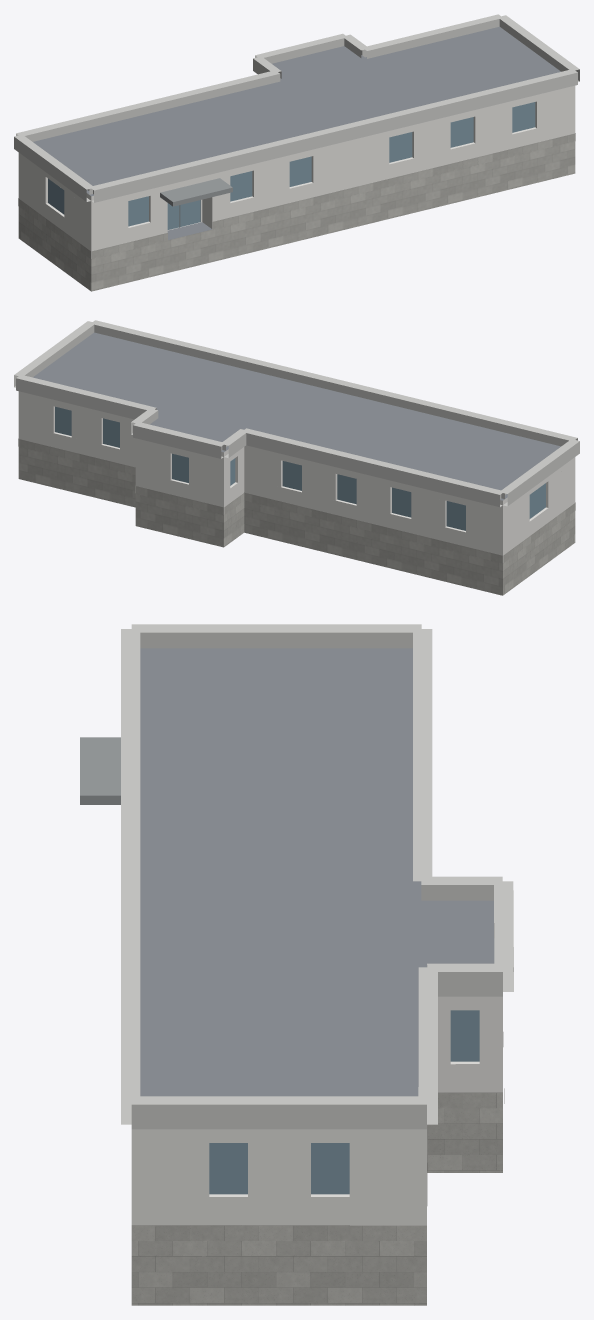
3 views of the same model, one above another, from view 1: azimuth 30°, elevation 25°; view 2: azimuth 150°, elevation 25°; view 3: azimuth 270°, elevation 25° (orthographic). The views are drawn at different scales.
Parts seen in each view (by area): view 1: westPlantW12__roof, westPlantW12__base, westPlantW12__wall, westPlantW12__trim, westPlantW12__glass, westPlantW12__canopy; view 2: westPlantW12__roof, westPlantW12__wall, westPlantW12__base, westPlantW12__trim, westPlantW12__glass; view 3: westPlantW12__roof, westPlantW12__trim, westPlantW12__base, westPlantW12__wall, westPlantW12__glass, westPlantW12__canopy.
Boxes of the visible parts, x1=… form: westPlantW12__roof: x1=33, y1=26, x2=560, y2=240; westPlantW12__base: x1=18, y1=133, x2=575, y2=291; westPlantW12__wall: x1=18, y1=85, x2=575, y2=258; westPlantW12__trim: x1=14, y1=14, x2=579, y2=202; westPlantW12__glass: x1=48, y1=102, x2=535, y2=229; westPlantW12__canopy: x1=160, y1=178, x2=232, y2=206; westPlantW12__roof: x1=33, y1=332, x2=560, y2=500; westPlantW12__wall: x1=18, y1=391, x2=575, y2=562; westPlantW12__base: x1=18, y1=438, x2=575, y2=595; westPlantW12__trim: x1=14, y1=320, x2=579, y2=507; westPlantW12__glass: x1=55, y1=406, x2=545, y2=530; westPlantW12__roof: x1=140, y1=648, x2=494, y2=1096; westPlantW12__trim: x1=121, y1=624, x2=513, y2=1129; westPlantW12__base: x1=131, y1=1032, x2=504, y2=1305; westPlantW12__wall: x1=131, y1=996, x2=502, y2=1225; westPlantW12__glass: x1=209, y1=1010, x2=479, y2=1194; westPlantW12__canopy: x1=80, y1=737, x2=120, y2=804.
Size of the model in its own units: 39.57 by 7.9 by 15.11.
8 materials, 1 textured.
